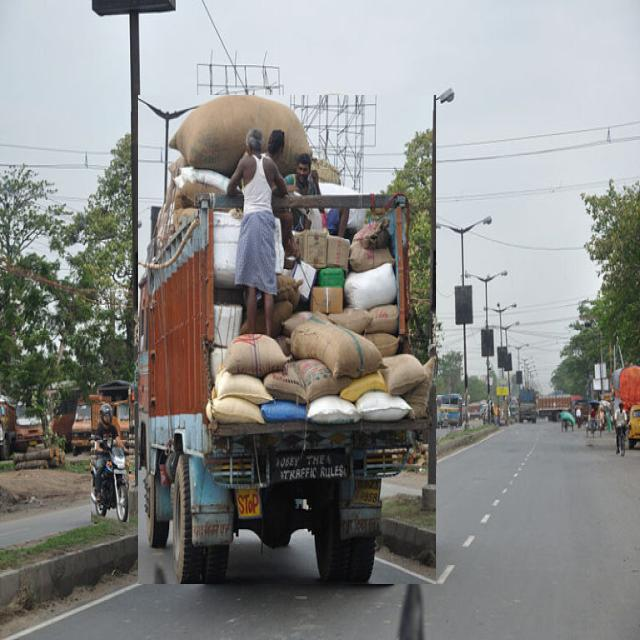bus: (437, 395, 461, 426)
motorcycle: (91, 403, 129, 522)
truck: (138, 95, 436, 584), (71, 381, 134, 453)
